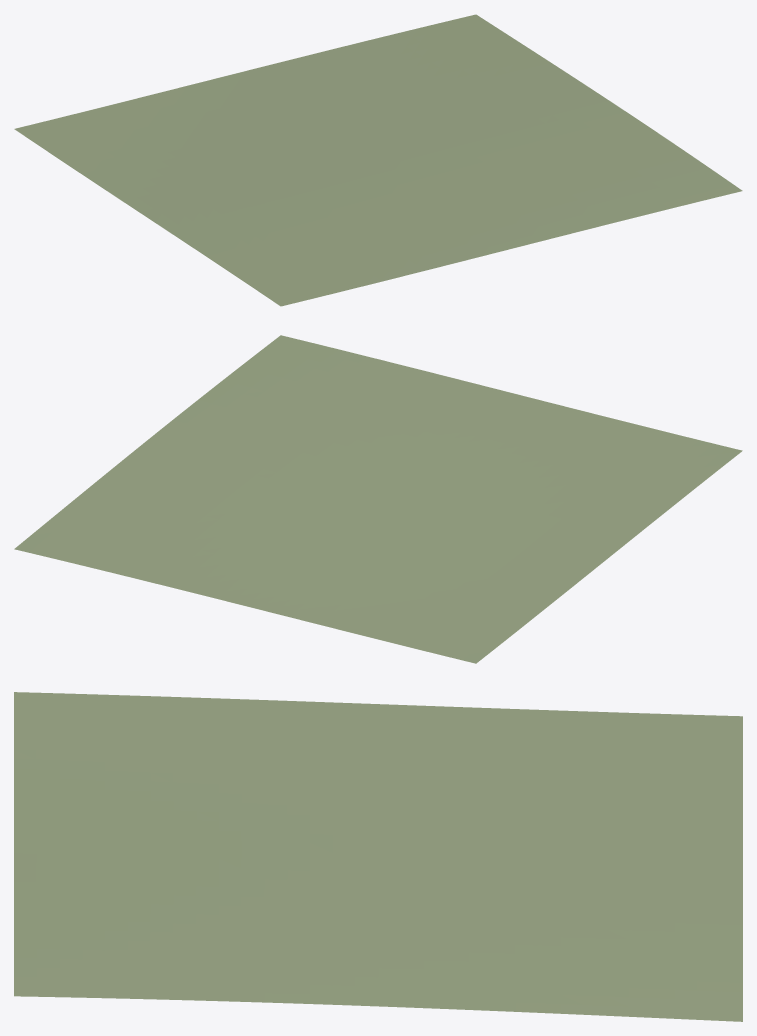
The model's file is expanse-1-10.glb.
3 renders of one model, top to bottom at view 1: azimuth 30°, elevation 25°; view 2: azimuth 150°, elevation 25°; view 3: azimuth 270°, elevation 25°, orthographic. The views are drawn at different scales.
Parts seen in each view (by area): view 1: expanse-1-10; view 2: expanse-1-10; view 3: expanse-1-10.
Boxes of the visible parts, x1,y1,x2,y2 form: expanse-1-10: (14, 14, 742, 306); expanse-1-10: (14, 335, 742, 663); expanse-1-10: (14, 692, 742, 1021).
Size of the model in its own units: 256 by 10.86 by 256.
